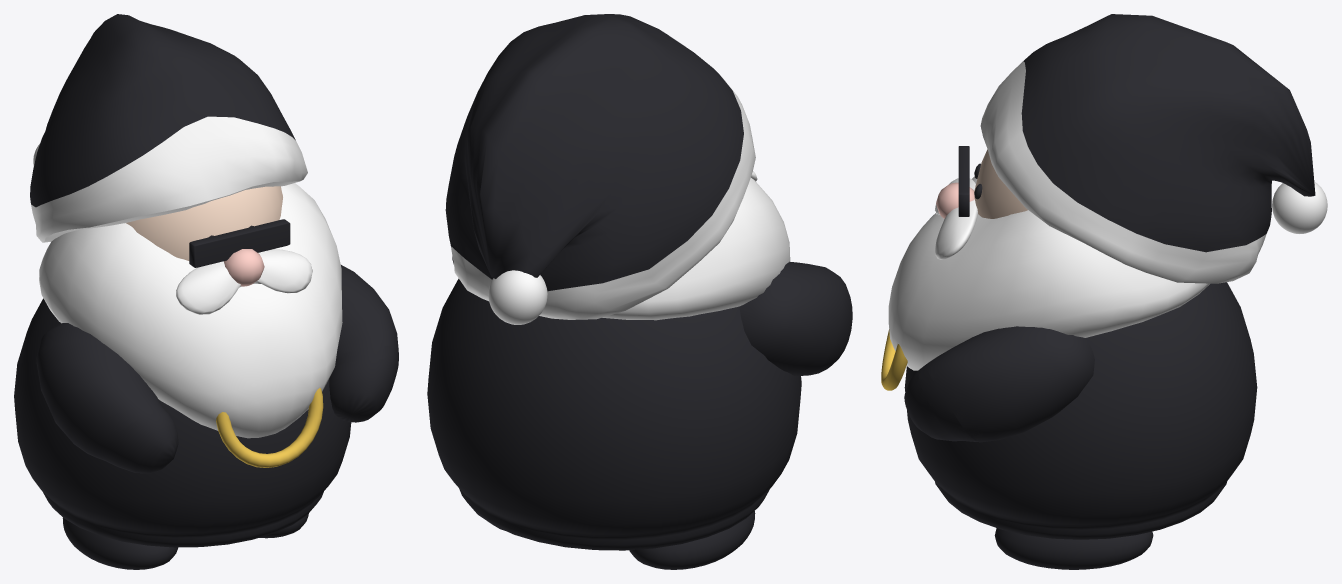
File: vip.glb
The picture shows the model from 3 angles, left to right: view 1: azimuth 30°, elevation 25°; view 2: azimuth 150°, elevation 25°; view 3: azimuth 270°, elevation 25°; orthographic projection. The views are drawn at different scales.
Visible parts, largest first — view 1: vip_red, vip_white, vip_black, vip_skin, vip_gold, vip_nose; view 2: vip_red, vip_white, vip_black; view 3: vip_red, vip_white, vip_black, vip_skin, vip_gold, vip_nose.
Boxes of the visible parts, x1=… form: vip_red: x1=14, y1=14, x2=398, y2=547; vip_white: x1=31, y1=116, x2=342, y2=438; vip_black: x1=62, y1=219, x2=308, y2=569; vip_skin: x1=126, y1=186, x2=282, y2=260; vip_gold: x1=216, y1=388, x2=323, y2=467; vip_nose: x1=224, y1=249, x2=264, y2=286; vip_red: x1=427, y1=14, x2=852, y2=550; vip_white: x1=451, y1=75, x2=790, y2=324; vip_black: x1=495, y1=511, x2=755, y2=569; vip_red: x1=904, y1=14, x2=1315, y2=539; vip_white: x1=888, y1=61, x2=1327, y2=370; vip_black: x1=958, y1=146, x2=1153, y2=569; vip_skin: x1=974, y1=149, x2=1027, y2=218; vip_gold: x1=881, y1=329, x2=907, y2=390; vip_nose: x1=936, y1=182, x2=974, y2=218.
Bounding box in the file's own units: 2.14 × 2.98 × 2.41.
